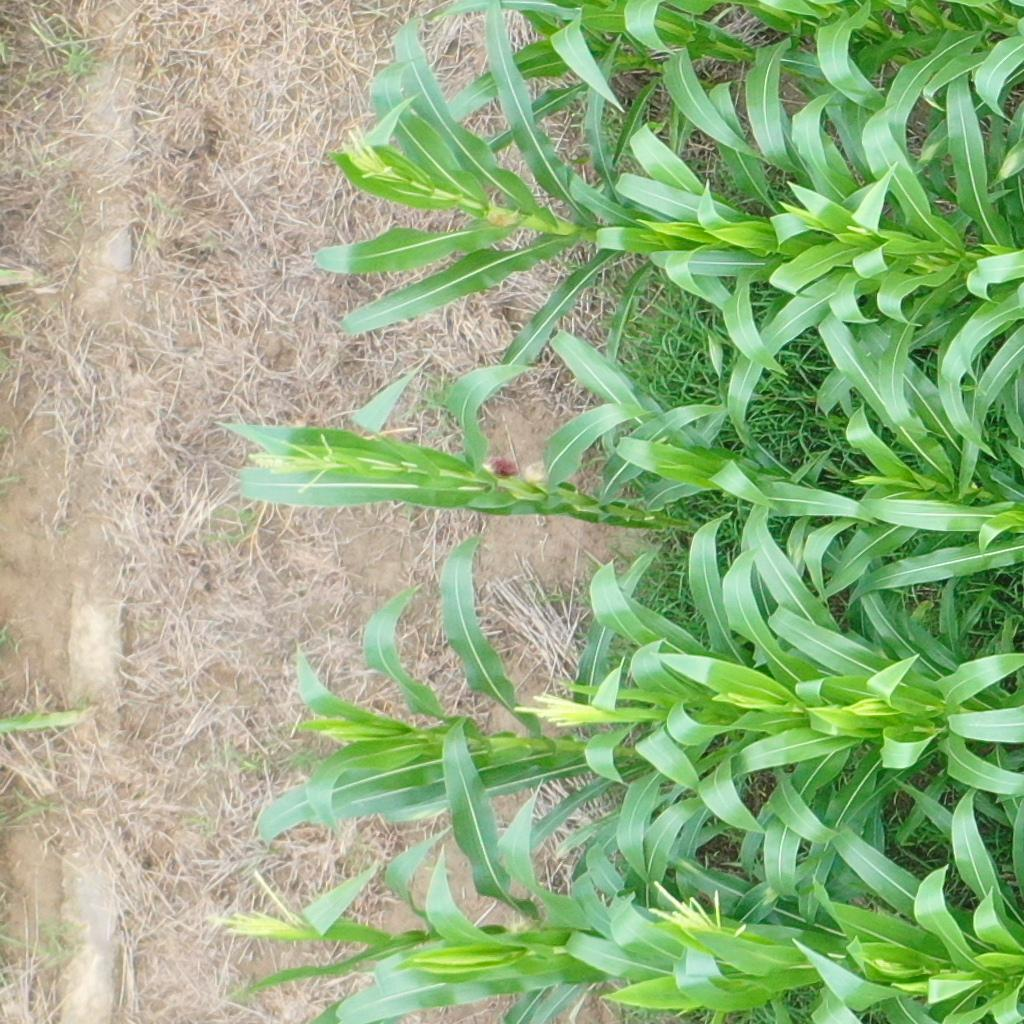Tassel: (208, 870, 310, 946), (246, 431, 349, 493), (636, 877, 735, 936), (507, 691, 607, 729), (338, 130, 398, 179)
